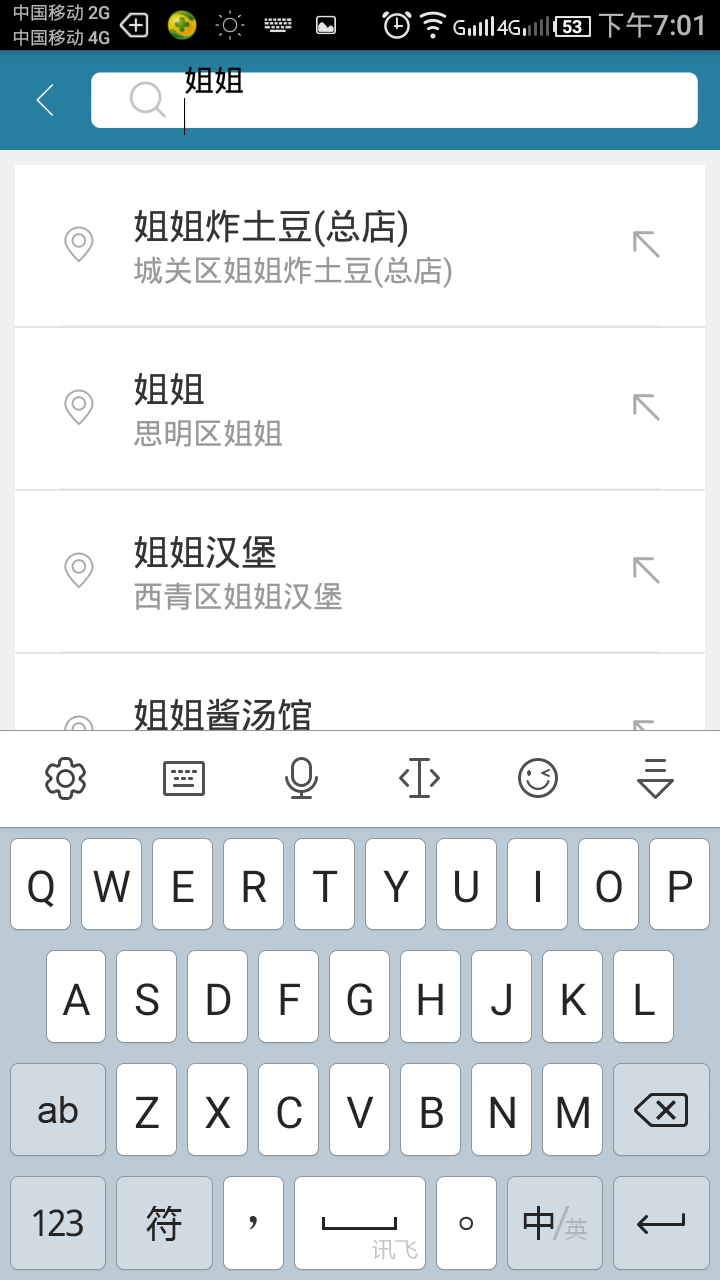imgbutton: (605, 213, 677, 283)
